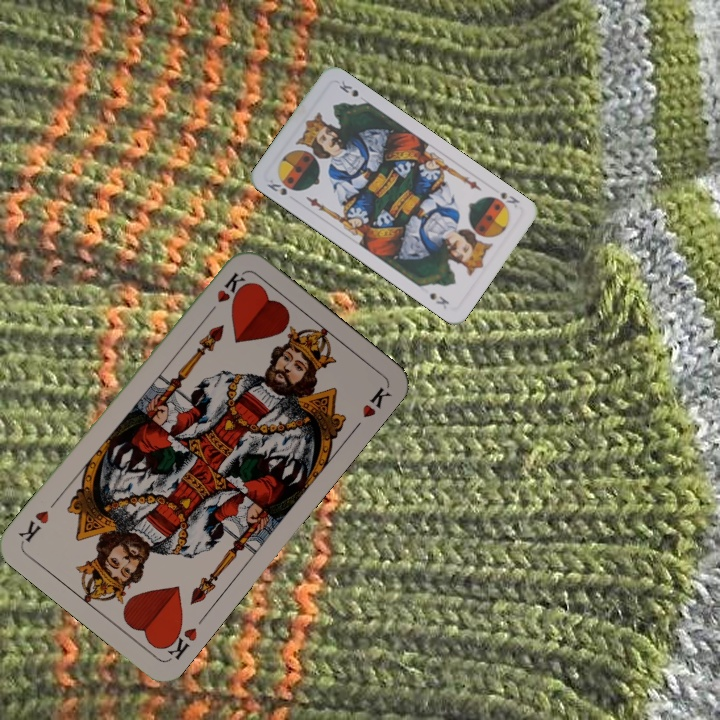HK: (202, 268, 247, 319), (157, 619, 200, 663)
SK: (263, 175, 290, 198), (496, 188, 522, 210)
